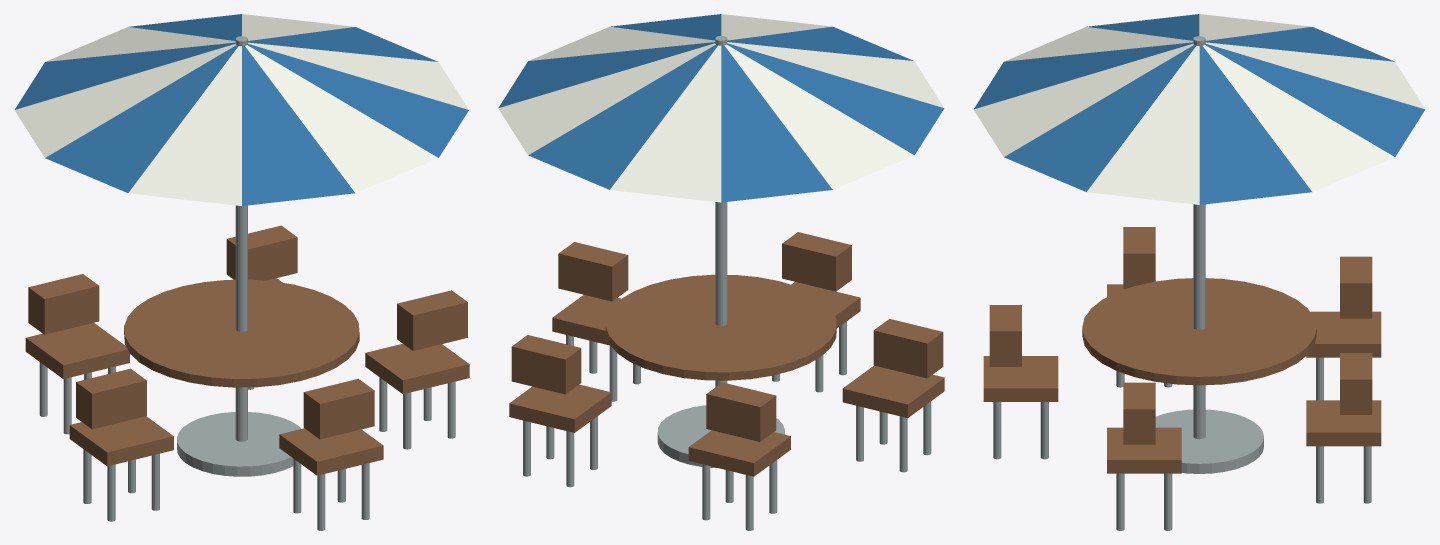
Rendered from scendance-plan-round-table-and-chairs-parasol.glb.
The picture shows the model from 3 angles, left to right: view 1: azimuth 30°, elevation 25°; view 2: azimuth 150°, elevation 25°; view 3: azimuth 270°, elevation 25°; orthographic projection.
Size of the model in its own units: 2.66 by 2.65 by 2.66.
